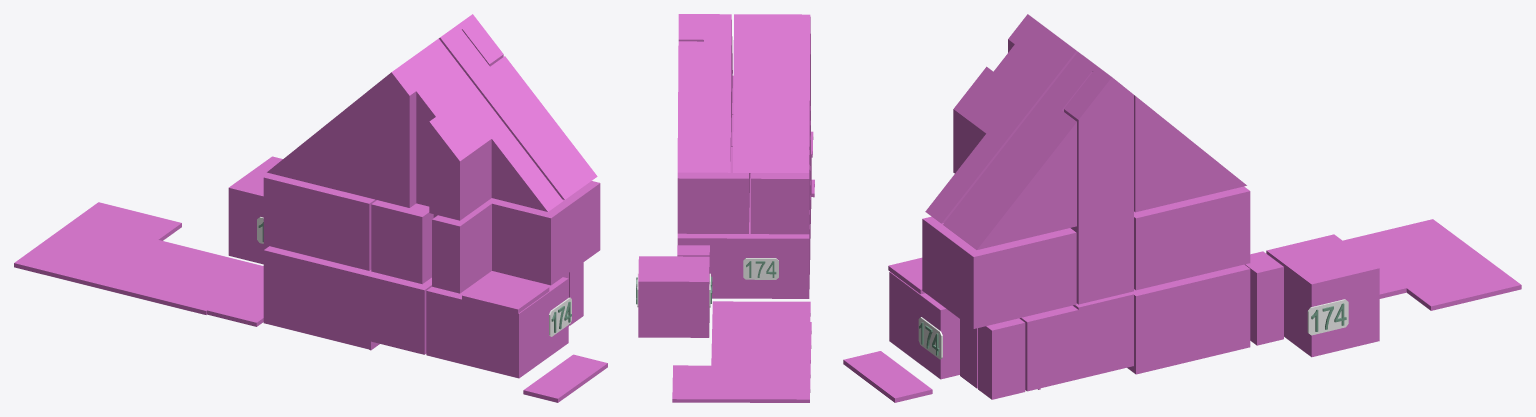
The picture shows the model from 3 angles, left to right: view 1: azimuth 30°, elevation 25°; view 2: azimuth 150°, elevation 25°; view 3: azimuth 270°, elevation 25°; orthographic projection. The views are drawn at different scales.
Visible parts, largest first — view 1: g_6, g_16, g_1, g_11, g_2, g_10, g_7, g_12, g_0, g_15, g_17, g_8 (+1 smaller); view 2: g_6, g_16, g_7, g_1, g_0, g_9, g_10, g_8, g_33, g_5; view 3: g_7, g_11, g_6, g_1, g_3, g_9, g_0, g_16, g_8, g_14, g_2, g_4 (+4 smaller).
Boxes of the visible parts, x1,y1,x2,y2 form: g_6: [267, 38, 563, 220]; g_16: [14, 202, 263, 326]; g_1: [263, 246, 431, 354]; g_11: [432, 181, 600, 293]; g_2: [426, 271, 568, 378]; g_10: [263, 173, 376, 270]; g_7: [439, 25, 597, 199]; g_12: [371, 200, 433, 284]; g_0: [228, 156, 282, 264]; g_15: [462, 273, 549, 313]; g_17: [523, 354, 607, 402]; g_8: [457, 14, 503, 66]; g_6: [733, 14, 810, 172]; g_16: [672, 301, 811, 402]; g_7: [677, 14, 732, 172]; g_1: [677, 174, 810, 298]; g_0: [638, 256, 709, 337]; g_9: [677, 146, 749, 233]; g_10: [750, 136, 810, 234]; g_8: [678, 14, 704, 41]; g_33: [743, 258, 778, 279]; g_5: [677, 245, 709, 273]; g_7: [943, 52, 1246, 249]; g_11: [922, 216, 1076, 328]; g_6: [925, 14, 1077, 223]; g_1: [1127, 264, 1250, 374]; g_3: [960, 292, 1133, 391]; g_9: [1134, 186, 1250, 290]; g_0: [1266, 234, 1379, 357]; g_16: [1343, 219, 1521, 310]; g_8: [1064, 65, 1133, 226]; g_14: [1071, 213, 1133, 304]; g_2: [889, 272, 959, 379]; g_4: [978, 318, 1025, 399].
Size of the model in its own units: 13.89 by 10.25 by 20.44.
